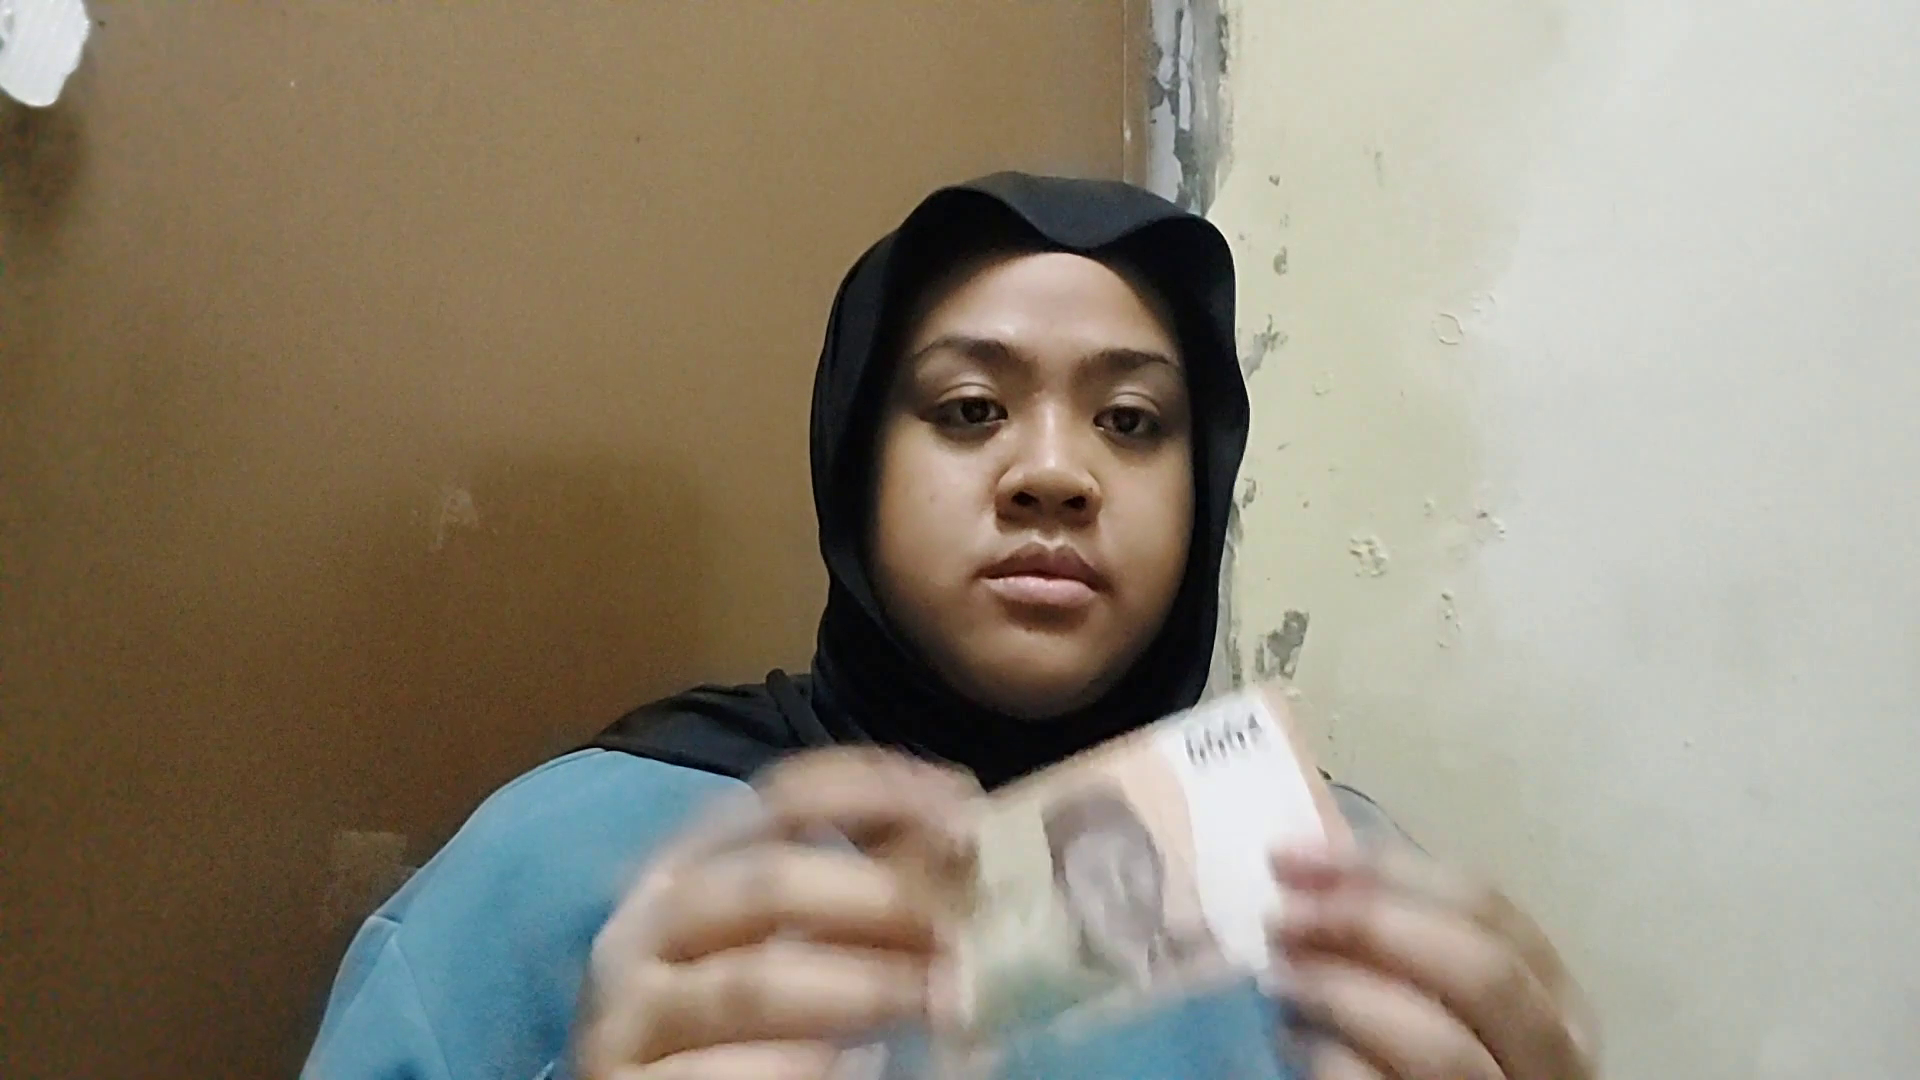5k: (828, 841, 1335, 1080)
